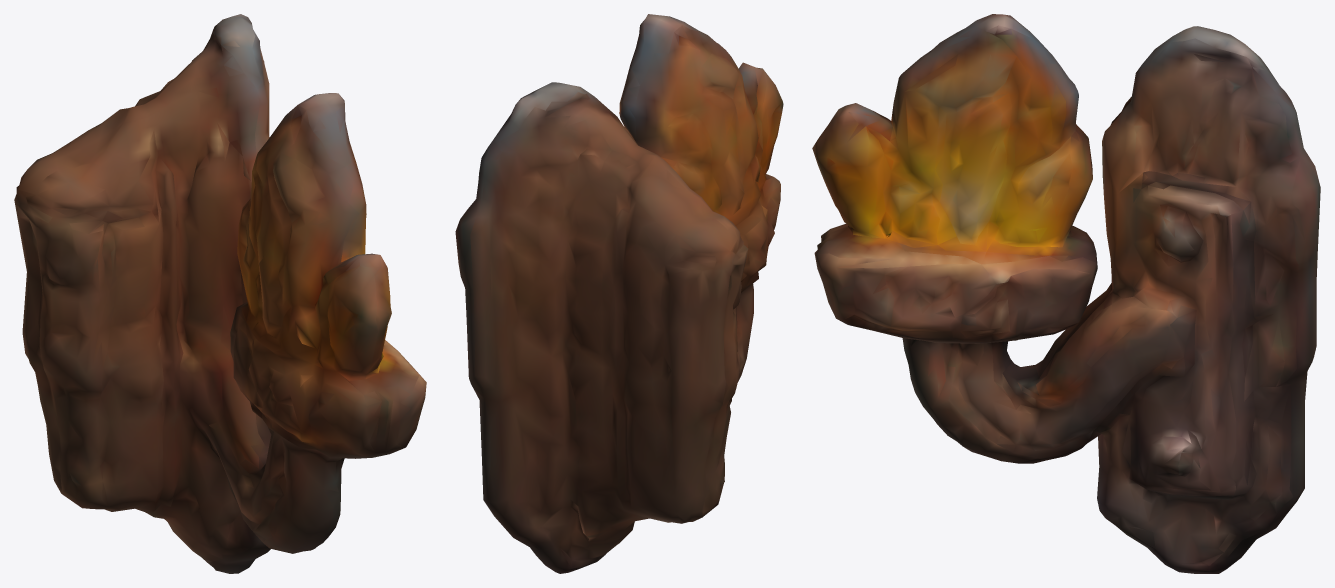
File: crystal_sconce.glb
3 renders of one model, left to right at view 1: azimuth 30°, elevation 25°; view 2: azimuth 150°, elevation 25°; view 3: azimuth 270°, elevation 25°, orthographic. The views are drawn at different scales.
Visible parts, largest first — view 1: model; view 2: model; view 3: model.
Part boxes in pixels (x1,y1,x2,y2): model: (14,14,426,573); model: (455,14,783,573); model: (812,14,1320,573).
Bounding box in the file's own units: 0.8367 × 1.6 × 1.33.
1 material, 1 textured.
